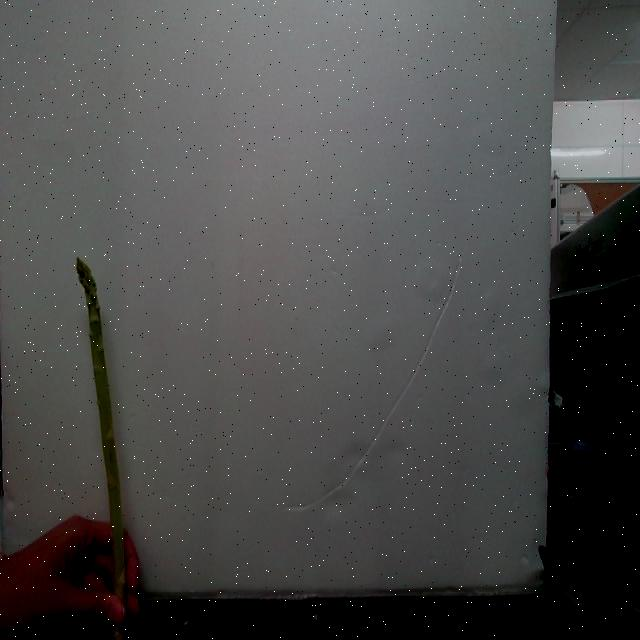aspargus: (74, 260, 128, 604)
